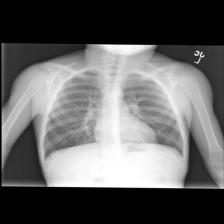normal: (39, 64, 185, 160)
